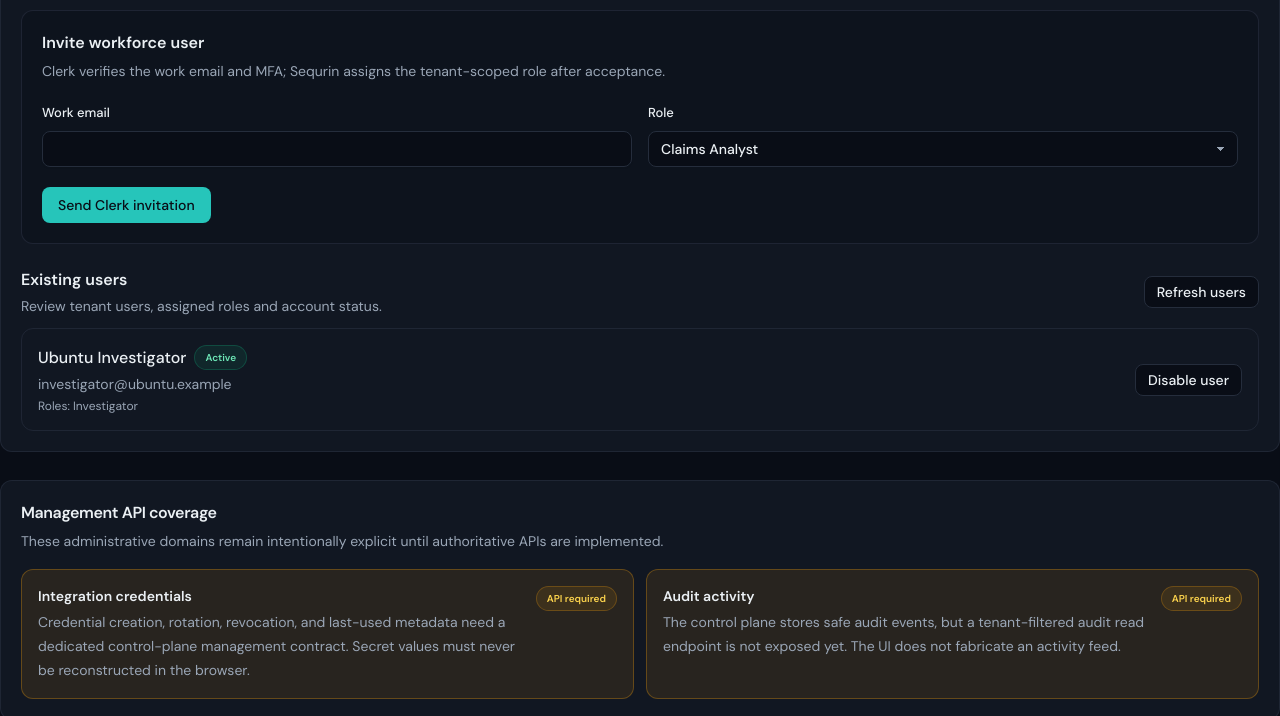
SchemeAdminPage › requires inline confirmation before disabling a tenant user
The width and height of the screenshot is (1280, 716).
(page scrolled)
Click the button "Disable user" at (1189, 380), box 1135,364 -> 1242,396
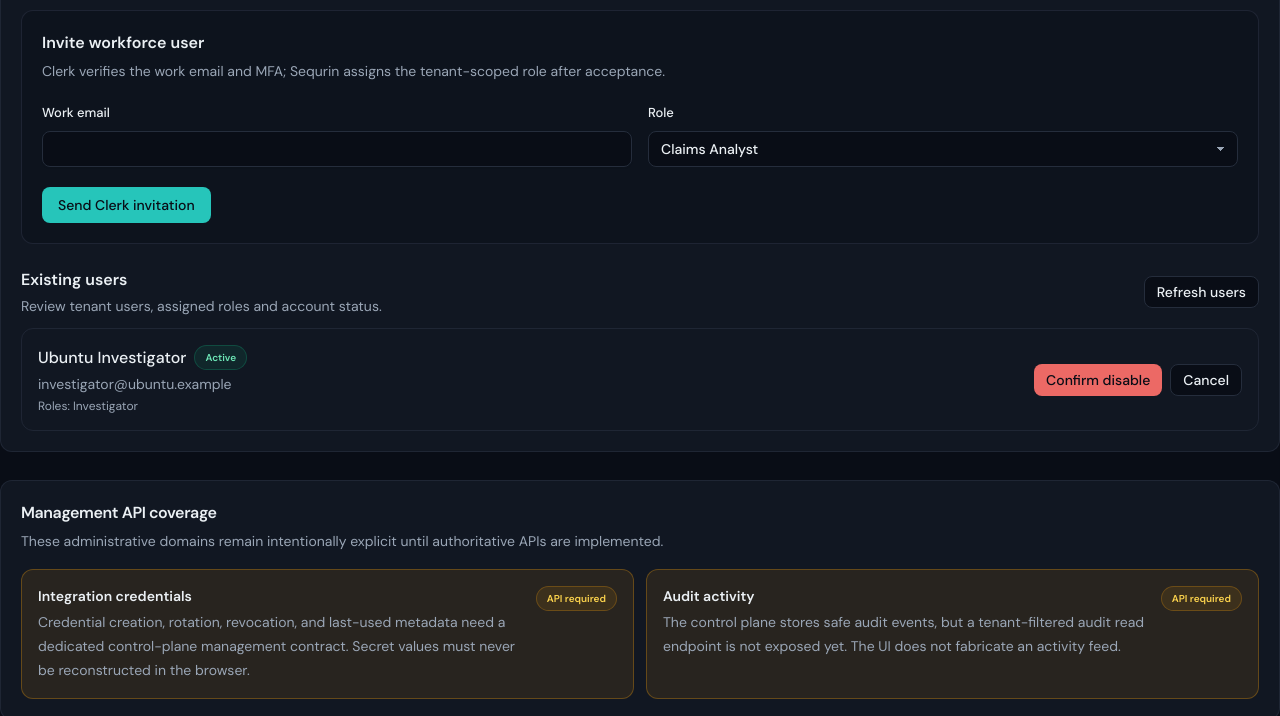
Click the button "Confirm disable" at (1098, 380), box 1034,364 -> 1162,396
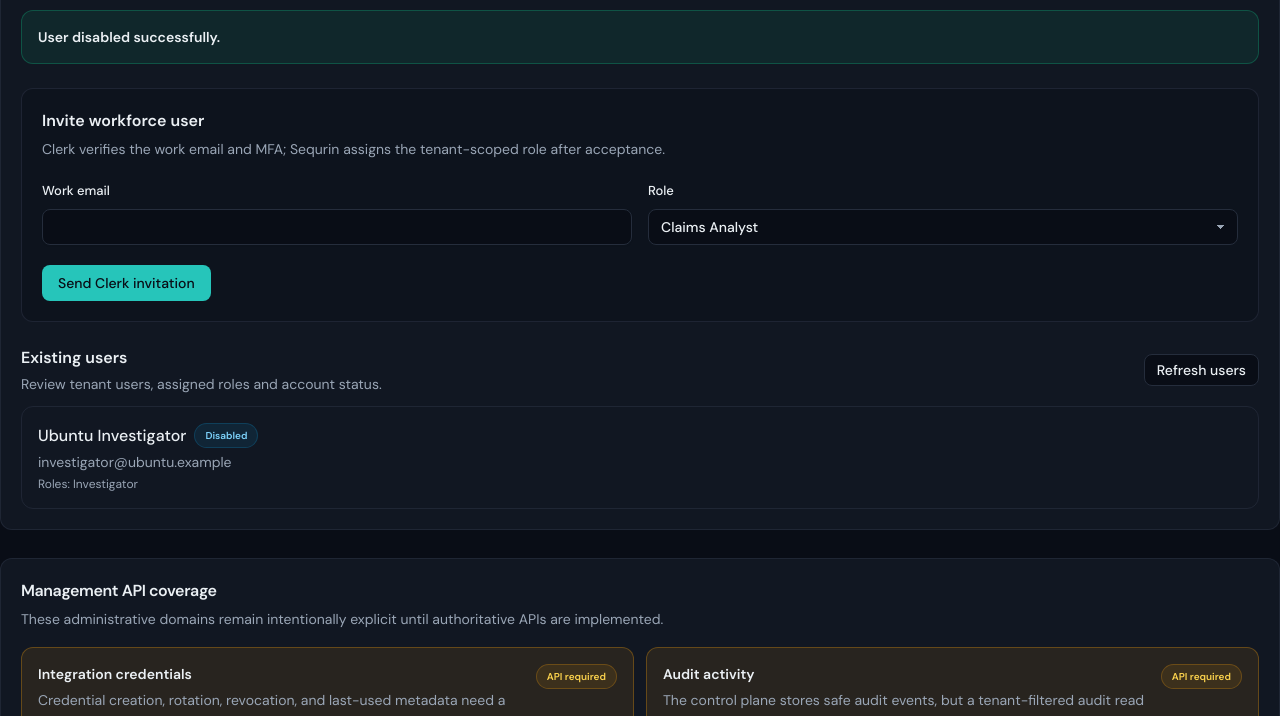
Expected: the text "User disabled successfully." is shown, 38,27 -> 220,47
